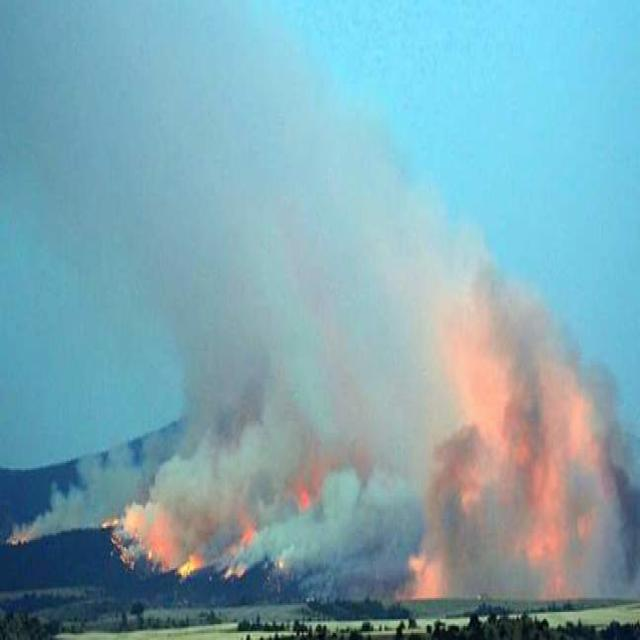Fire: (170, 548, 203, 584), (219, 547, 251, 579), (296, 482, 324, 507), (240, 517, 259, 546)
Smoke: (152, 74, 499, 591), (412, 280, 633, 599), (23, 447, 152, 543)
